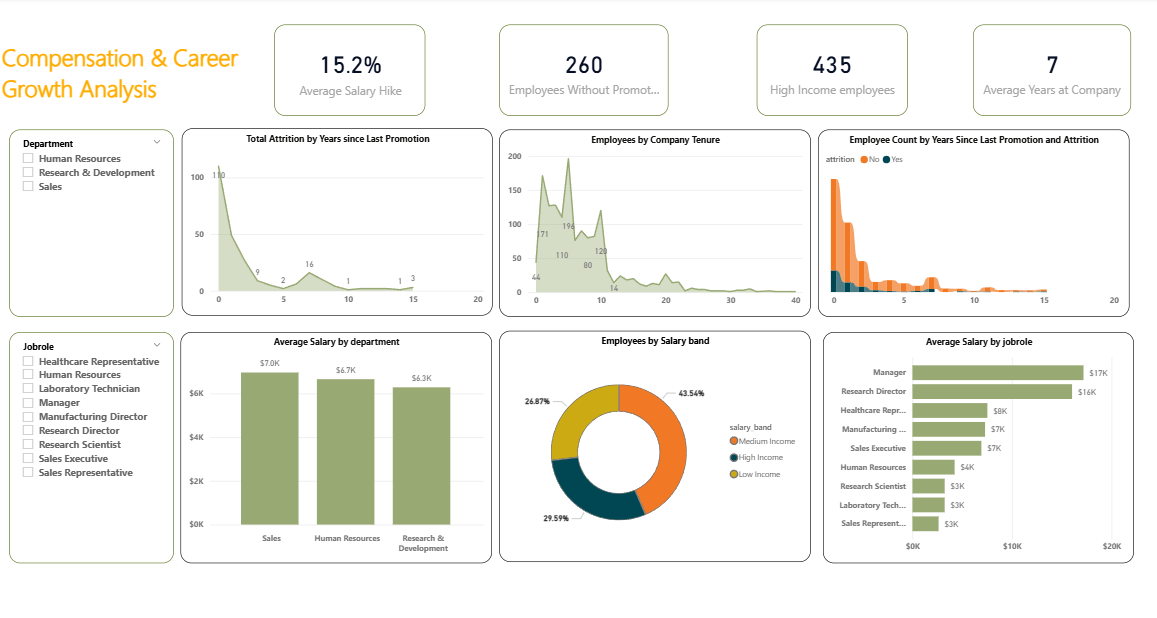

This screenshot's page, from the dashboard's own definition file:
{"tool":"powerbi","page":{"name":"Compensation & Growth","canvas":[1600,900],"ordinal":2},"visuals":[{"type":"columnChart","fields":{"Category":["public employee_attrition.department"],"Y":["Measure_Table.Average Salary"]},"box":[249.4,457.7,425.3,316],"z":0},{"type":"donutChart","title":"Employees by Salary band","fields":{"Category":["public vw_employee_analysis.salary_band"],"Y":["CountNonNull(public vw_employee_analysis.employeenumber)"]},"box":[684.9,456,425.3,316],"z":1000},{"type":"areaChart","title":"Total Attrition by Years since Last Promotion","fields":{"Category":["public vw_employee_analysis.yearssincelastpromotion"],"Y":["Measure_Table.Total Attrition"]},"box":[251.6,179.7,425,256],"z":2000},{"type":"stackedAreaChart","title":"Employees by Company Tenure","fields":{"Category":["public employee_attrition.yearsatcompany"],"Y":["CountNonNull(public employee_attrition.employeenumber)"]},"box":[684.9,181,425.3,256.2],"z":3000},{"type":"ribbonChart","title":"Employee Count by Years Since Last Promotion and Attrition","fields":{"Category":["public employee_attrition.yearssincelastpromotion"],"Series":["public employee_attrition.attrition"],"Y":["CountNonNull(public employee_attrition.employeenumber)"]},"box":[1120.4,181,425.3,256.2],"z":4000},{"type":"barChart","fields":{"Category":["public vw_employee_risk_analysis.jobrole"],"Y":["Measure_Table.Average Salary"]},"box":[1128,457.7,425,315.7],"z":5000},{"type":"card","fields":{"Values":["Measure_Table.Average Salary Hike"]},"box":[378.2,37.5,206.3,125],"z":6000},{"type":"card","fields":{"Values":["Measure_Table.High Income employees"]},"box":[1036.1,37.5,206.3,125],"z":7000},{"type":"card","fields":{"Values":["Measure_Table.Average Years at Company"]},"box":[1331.5,37.5,215.7,125],"z":8000},{"type":"card","fields":{"Values":["Measure_Table.Employees Without Promotion"]},"box":[684.5,37.5,231.3,125],"z":9000},{"type":"textbox","box":[0,54.7,364.1,120.3],"z":10000},{"type":"slicer","fields":{"Values":["public employee_attrition.department"]},"box":[15.6,181.3,225,256.3],"z":11000},{"type":"slicer","fields":{"Values":["public employee_attrition.jobrole"]},"box":[15.6,457.9,225,315.7],"z":12000}]}

Visuals, with their boxes on the page's 1600x900 design canvas (x1, y1, x2, y2). These are canvas units, not pixel positions in the 1157x618 screenshot, which may show the page scaled, cropped or inside an application window:
columnChart - public employee_attrition.department x Measure_Table.Average Salary: 249 458 675 774
"Employees by Salary band" donutChart: 685 456 1110 772
"Total Attrition by Years since Last Promotion" areaChart: 252 180 677 436
"Employees by Company Tenure" stackedAreaChart: 685 181 1110 437
"Employee Count by Years Since Last Promotion and Attrition" ribbonChart: 1120 181 1546 437
barChart - public vw_employee_risk_analysis.jobrole x Measure_Table.Average Salary: 1128 458 1553 773
card - Measure_Table.Average Salary Hike: 378 38 584 162
card - Measure_Table.High Income employees: 1036 38 1242 162
card - Measure_Table.Average Years at Company: 1332 38 1547 162
card - Measure_Table.Employees Without Promotion: 684 38 916 162
textbox: 0 55 364 175
slicer - public employee_attrition.department: 16 181 241 438
slicer - public employee_attrition.jobrole: 16 458 241 774
